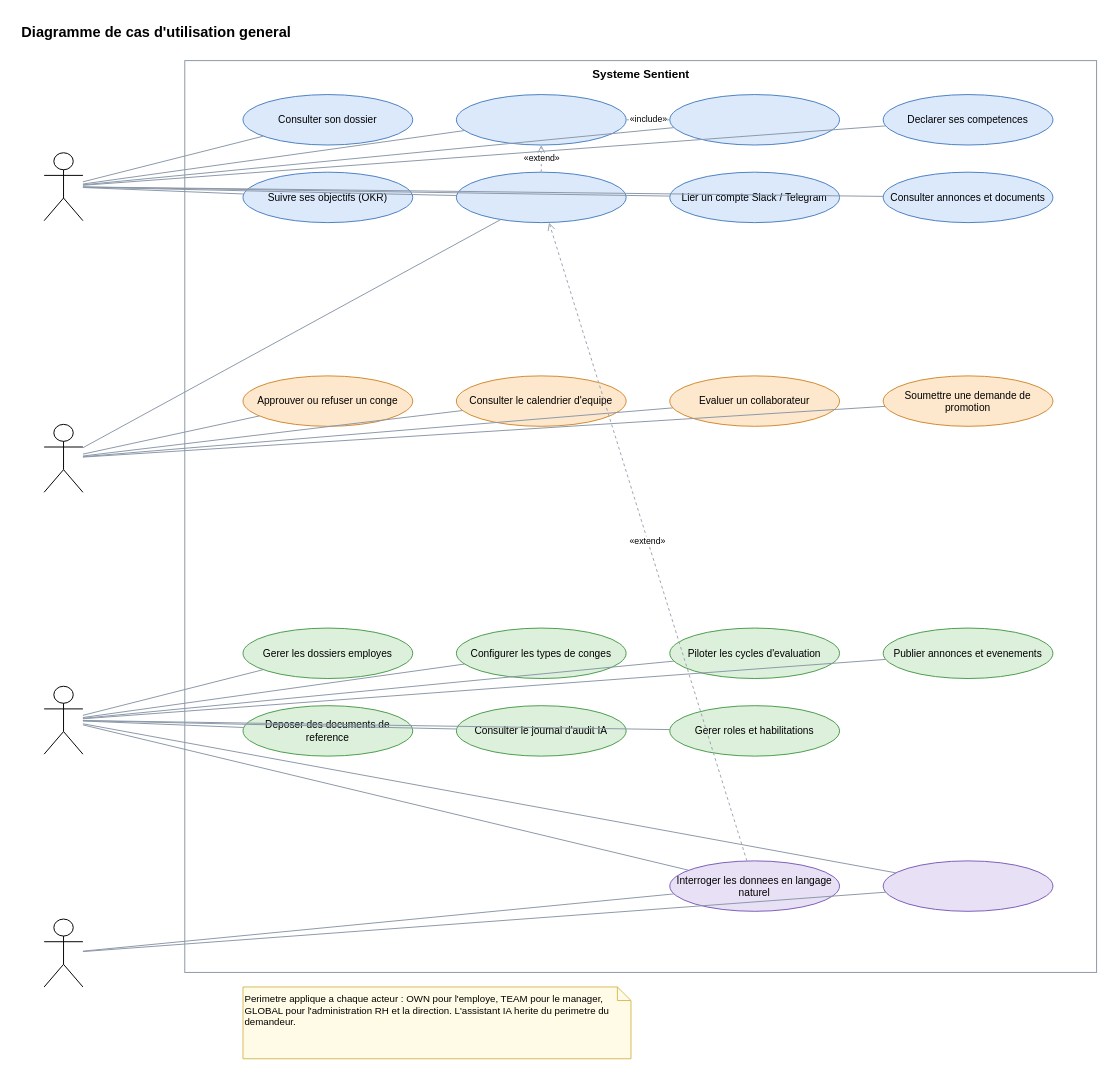
Some shapes in this 1114 by 1076 pixel diagram are drawn without their labels. Here are the shapes that lost their labels. From the top down, the box of each, then its label:
(455, 94, 626, 145): Soumettre une demande de conge
(669, 94, 840, 145): Consulter ses soldes de conges
(43, 152, 83, 221): Employe
(455, 171, 626, 223): Dialoguer avec l'assistant IA
(43, 423, 83, 492): Manager
(43, 685, 83, 754): Administrateur RH
(882, 860, 1053, 911): Consulter le tableau de bord
(43, 918, 83, 987): Dirigeant
